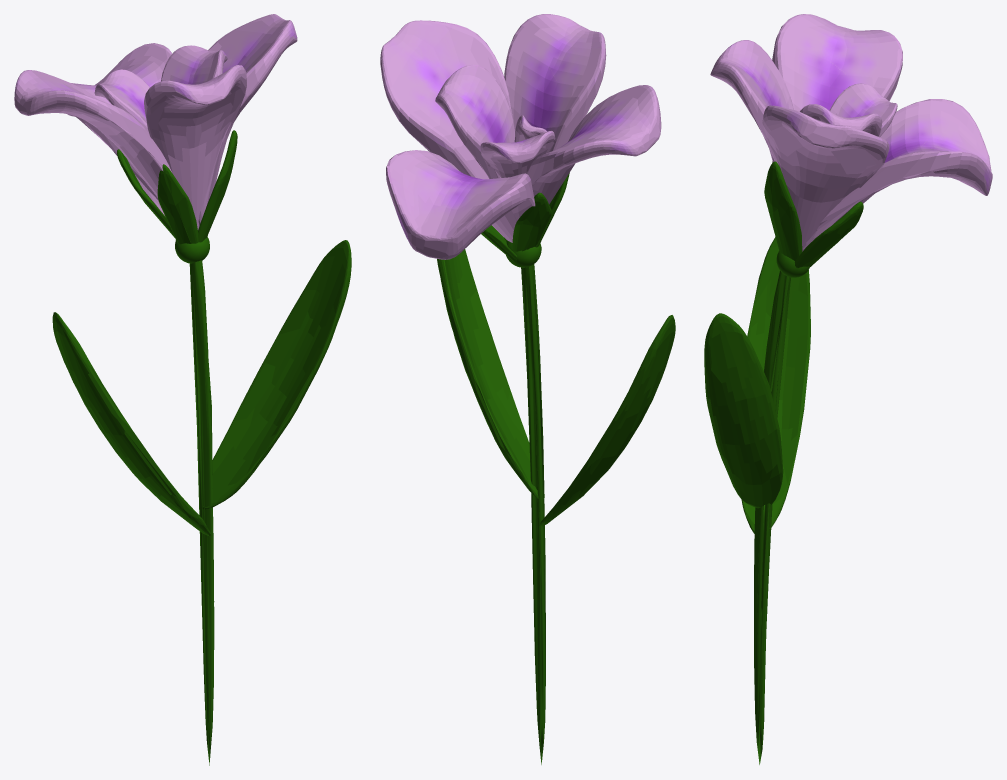
The model's file is Guilt_Canna.glb.
3 renders of one model, left to right at view 1: azimuth 30°, elevation 25°; view 2: azimuth 150°, elevation 25°; view 3: azimuth 270°, elevation 25°, orthographic. The views are drawn at different scales.
Visible parts, largest first — view 1: Sphere; view 2: Sphere; view 3: Sphere.
Boxes of the visible parts, box(x1,y1,x2,y2) form: Sphere: box(14, 14, 351, 765); Sphere: box(380, 14, 675, 764); Sphere: box(704, 14, 992, 764).
Bounding box in the file's own units: 5.96 × 15.13 × 5.61.
Materials: 3 (1 with a texture image).
